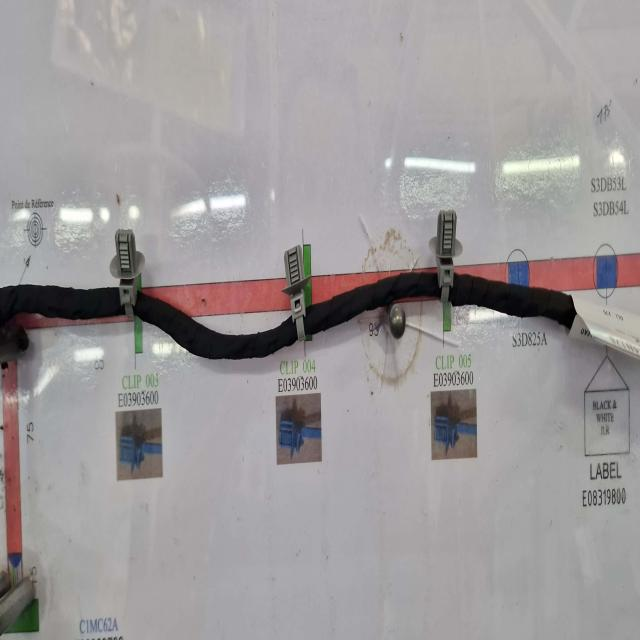Clip: (108, 228, 143, 318), (429, 209, 462, 301), (281, 246, 310, 341)
Info: (564, 288, 640, 359)
MHEV_N11_Cable: (133, 291, 295, 359), (304, 266, 441, 332), (447, 270, 575, 327), (0, 296, 125, 339)
